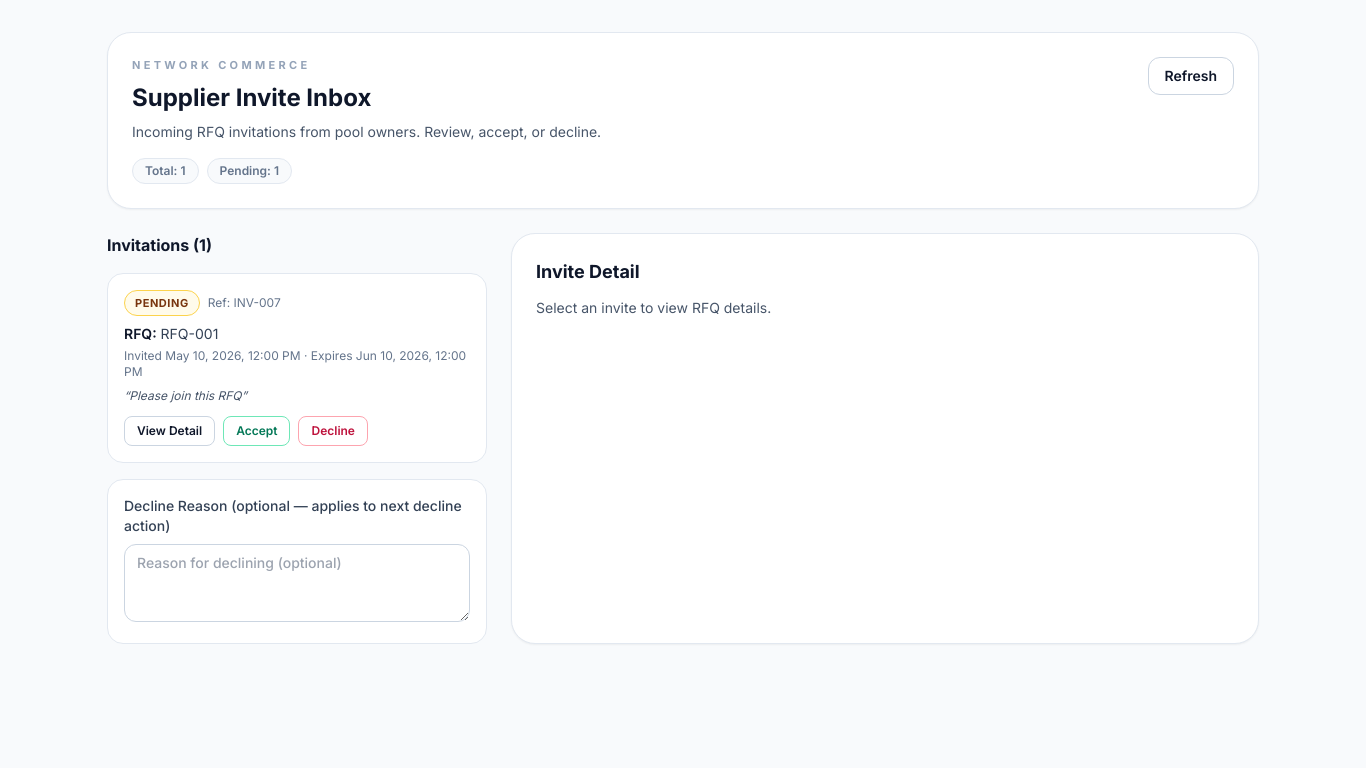
Test case: FE-7 supplier invite inbox › shows invalid-state card on 422 INVALID_TRANSITION
Expected: the text "Ref: INV-007" is shown, [208, 295, 281, 311]
Click the button "Accept".
click(257, 431)  # box [223, 416, 290, 446]
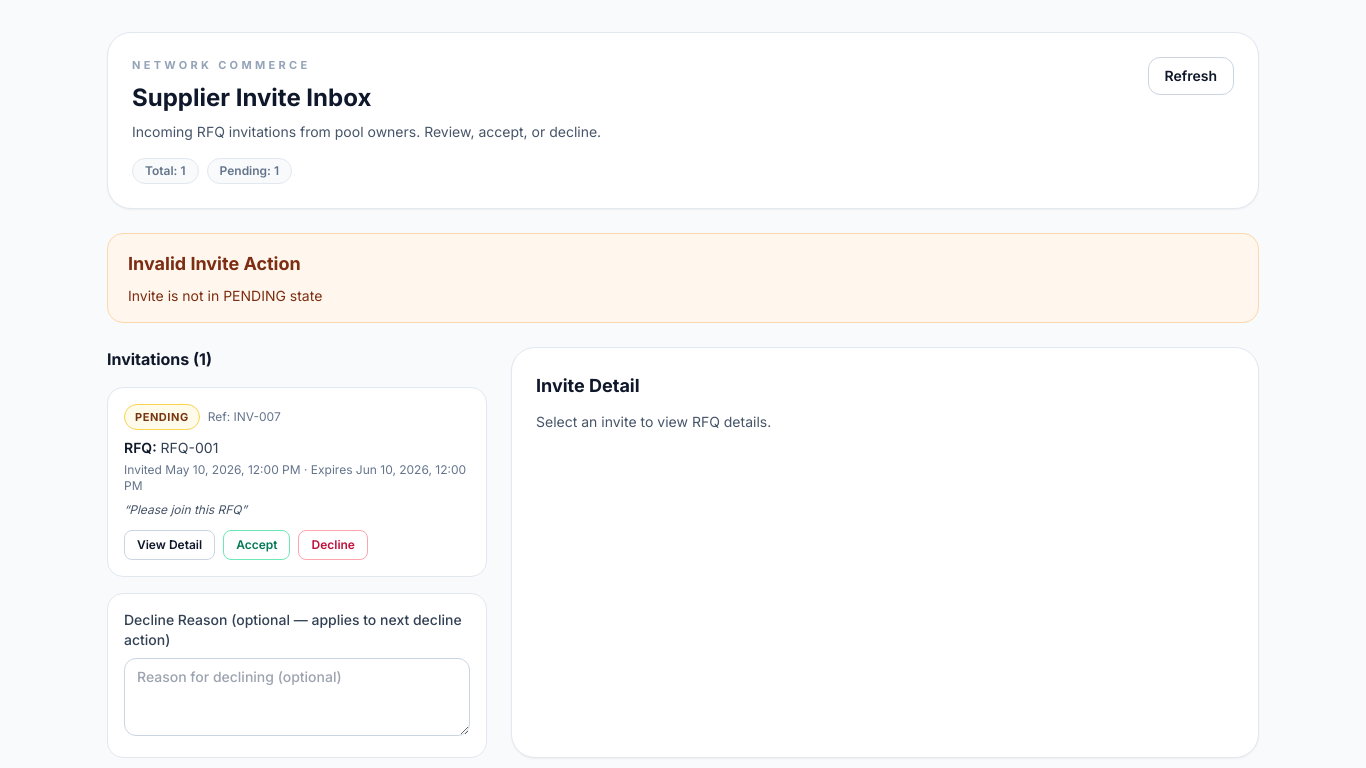
Expected: the heading "Invalid Invite Action" is shown, [128, 252, 301, 274]
